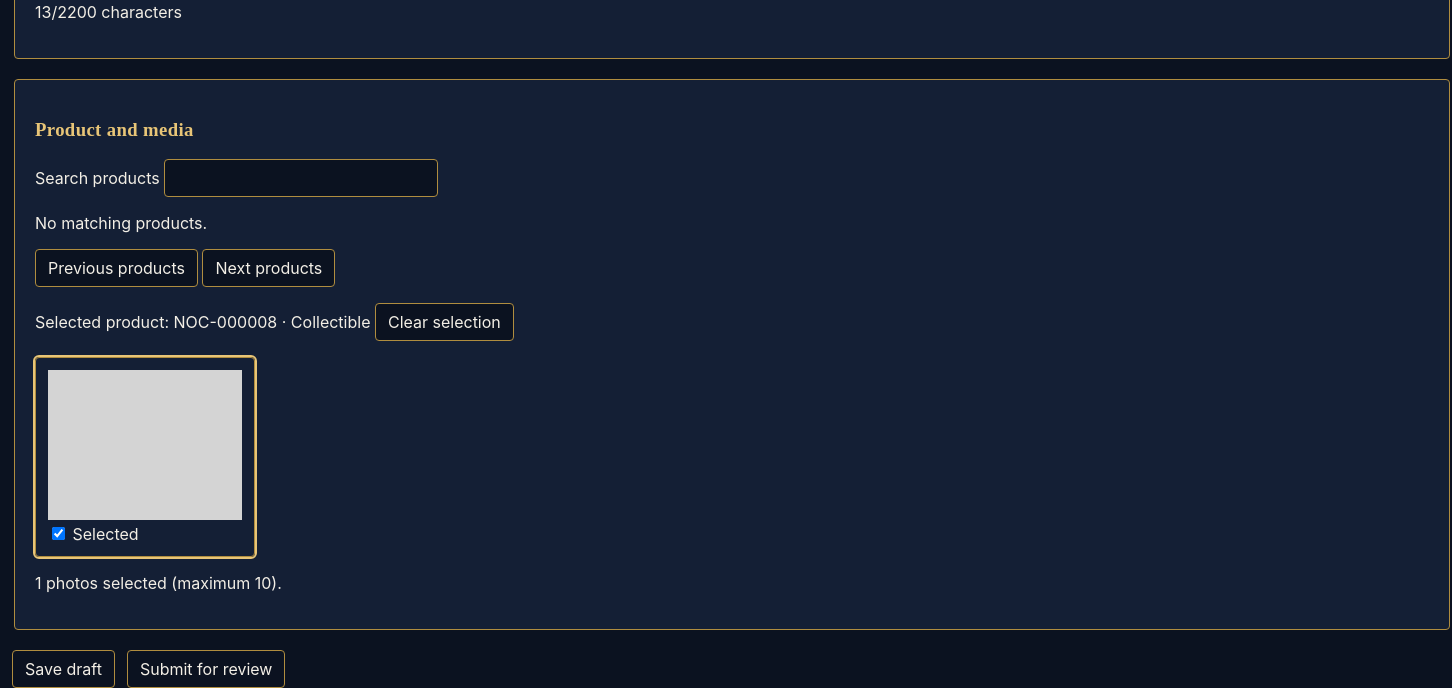
Test case: Social Manager › shows a safe save failure without submitting or navigating
This screenshot has width=1452, height=688.
(page scrolled)
Click the button "Submit for review" at [206, 669], box [127,650,285,687]
(page scrolled)
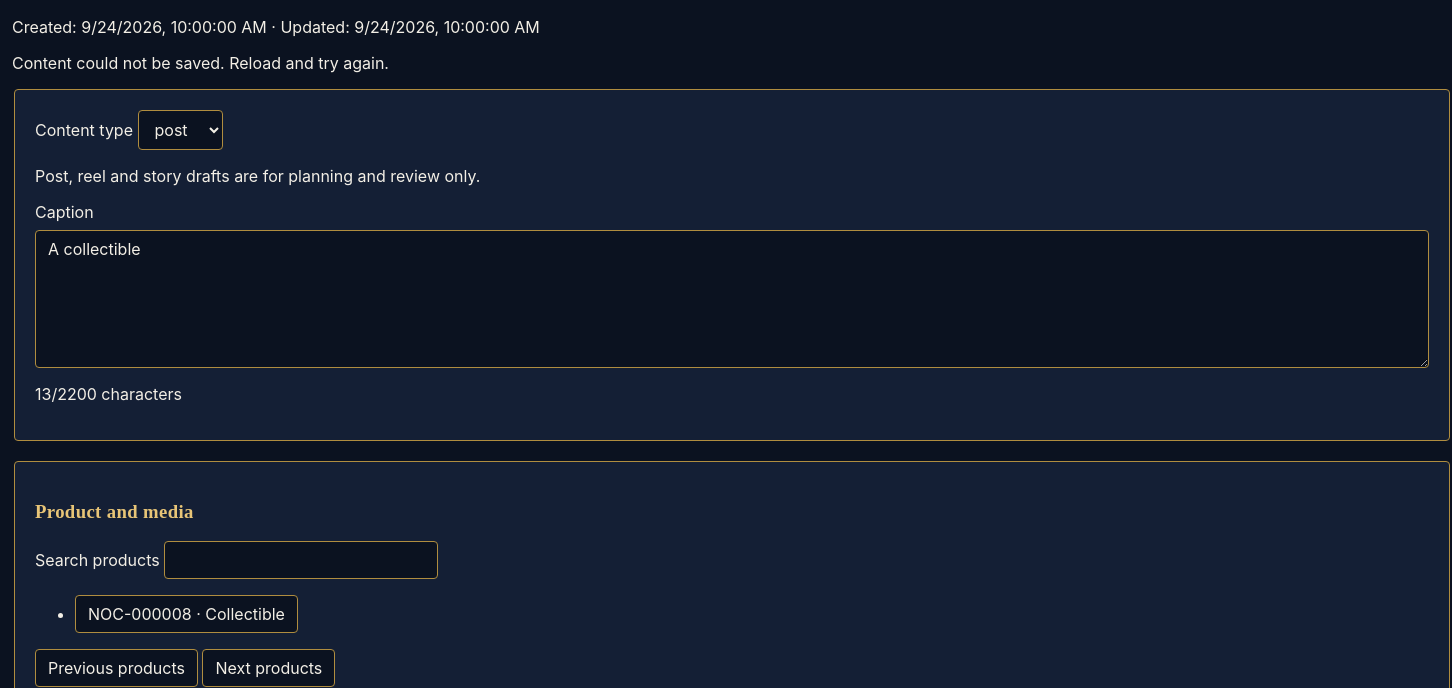
Check: the message shows "Content could not be saved.", box [12,53,389,73]
